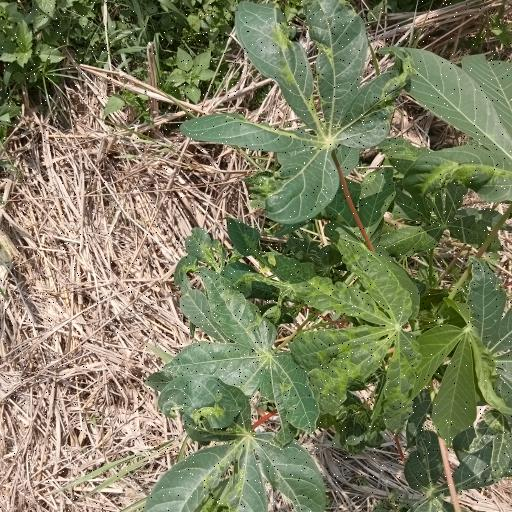Cassava_Mosaic: (201, 3, 416, 217), (287, 240, 427, 431)
